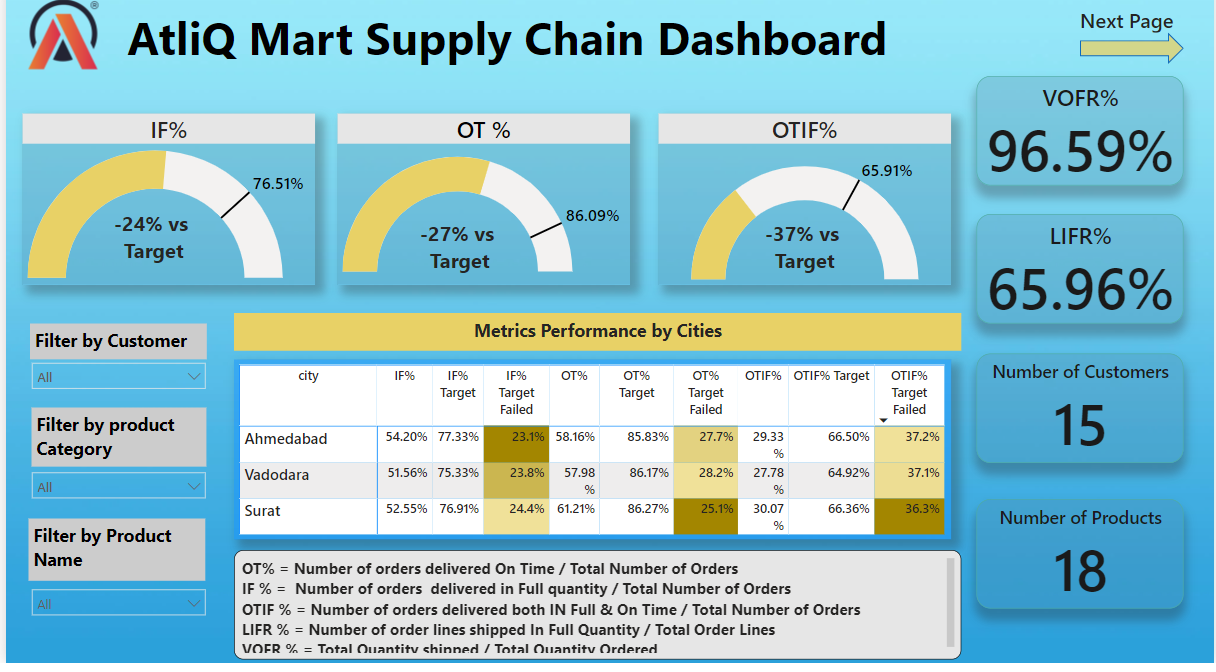

The page's visual inventory and layout, read from the dashboard file:
{"tool":"powerbi","page":{"name":"Page 1","canvas":[1280,720],"ordinal":0},"visuals":[{"type":"gauge","title":"OT % ","fields":{"Y":["dim_customers.OT%"],"TargetValue":["dim_targets_orders.OT_Target%"]},"box":[351.3,138.3,309.9,181.2],"z":0},{"type":"textbox","box":[429.1,244.8,103.3,69.9],"z":1000},{"type":"gauge","title":"IF%","fields":{"Y":["dim_customers.IF%"],"TargetValue":["dim_targets_orders.IF_Target %"]},"box":[17.5,138.3,309.9,181.2],"z":2000},{"type":"textbox","box":[104.9,233.6,103.3,69.9],"z":3000},{"type":"gauge","title":"OTIF% ","fields":{"Y":["dim_customers.OTIF%"],"TargetValue":["dim_targets_orders.OTIFTarget%"]},"box":[691.4,138.3,309.9,181.2],"z":4000},{"type":"textbox","box":[794.7,244.8,103.3,69.9],"z":5000},{"type":"card","title":"Number of Products","fields":{"Values":["Count(dim_products.product_name)"]},"box":[1028.3,546.8,219.3,116],"z":6000},{"type":"card","title":"Number of Customers","fields":{"Values":["Count(dim_customers.customer_name)"]},"box":[1028.3,392.6,219.3,116],"z":7000},{"type":"card","title":"VOFR%","fields":{"Values":["dim_customers.VOFR%"]},"box":[1028.3,98.5,219.3,116],"z":8000},{"type":"card","title":"LIFR%","fields":{"Values":["dim_customers.LIFR%"]},"box":[1028.3,244.8,219.3,116],"z":9000},{"type":"textbox","box":[17.5,19.1,953.6,81.1],"z":10000},{"type":"image","box":[17.5,7.9,87.4,92.2],"z":11000},{"type":"slicer","fields":{"Values":["dim_customers.customer_name"]},"box":[17,393.1,204.1,56.7],"z":12000},{"type":"pivotTable","fields":{"Rows":["dim_customers.city"],"Values":["dim_customers.IF%","dim_targets_orders.IF_Target %","dim_customers.IF_actualvstarget","dim_customers.OT%","dim_targets_orders.OT_Target%","dim_customers.OT_actualvstarget","dim_customers.OTIF%","dim_targets_orders.OTIFTarget%","dim_customers.OTIF_actualvstarget"]},"box":[241.6,398.9,759.7,190.7],"z":13000},{"type":"textbox","box":[25.4,360.8,187.5,38.1],"z":14000},{"type":"textbox","box":[26.5,449.8,185.2,62.4],"z":15000},{"type":"slicer","fields":{"Values":["dim_products.category"]},"box":[17,508.4,204.1,58.6],"z":16000},{"type":"textbox","box":[24.6,566.9,187.1,66.1],"z":17000},{"type":"slicer","fields":{"Values":["dim_products.product_name"]},"box":[17,633.1,204.1,56.7],"z":18000},{"type":"shape","title":"Next Page","box":[1138,23.8,109.7,62],"z":19000},{"type":"textbox","box":[241.6,600.8,770.9,116],"z":20000},{"type":"textbox","box":[241.6,349.7,770.9,39.7],"z":21000}]}

Visuals, with their boxes in screenshot pixels (x1, y1, x2, y2), scaled from the page's 1280x720 canvas onto the 1216x672 screenshot:
"OT % " gauge: [x1=334, y1=129, x2=628, y2=298]
textbox: [x1=408, y1=228, x2=506, y2=294]
"IF%" gauge: [x1=17, y1=129, x2=311, y2=298]
textbox: [x1=100, y1=218, x2=198, y2=283]
"OTIF% " gauge: [x1=657, y1=129, x2=951, y2=298]
textbox: [x1=755, y1=228, x2=853, y2=294]
"Number of Products" card: [x1=977, y1=510, x2=1185, y2=619]
"Number of Customers" card: [x1=977, y1=366, x2=1185, y2=475]
"VOFR%" card: [x1=977, y1=92, x2=1185, y2=200]
"LIFR%" card: [x1=977, y1=228, x2=1185, y2=337]
textbox: [x1=17, y1=18, x2=923, y2=94]
image: [x1=17, y1=7, x2=100, y2=93]
slicer - dim_customers.customer_name: [x1=16, y1=367, x2=210, y2=420]
pivotTable - dim_customers.city x dim_customers.IF%: [x1=230, y1=372, x2=951, y2=550]
textbox: [x1=24, y1=337, x2=202, y2=372]
textbox: [x1=25, y1=420, x2=201, y2=478]
slicer - dim_products.category: [x1=16, y1=475, x2=210, y2=529]
textbox: [x1=23, y1=529, x2=201, y2=591]
slicer - dim_products.product_name: [x1=16, y1=591, x2=210, y2=644]
"Next Page" shape: [x1=1081, y1=22, x2=1185, y2=80]
textbox: [x1=230, y1=561, x2=962, y2=669]
textbox: [x1=230, y1=326, x2=962, y2=363]
